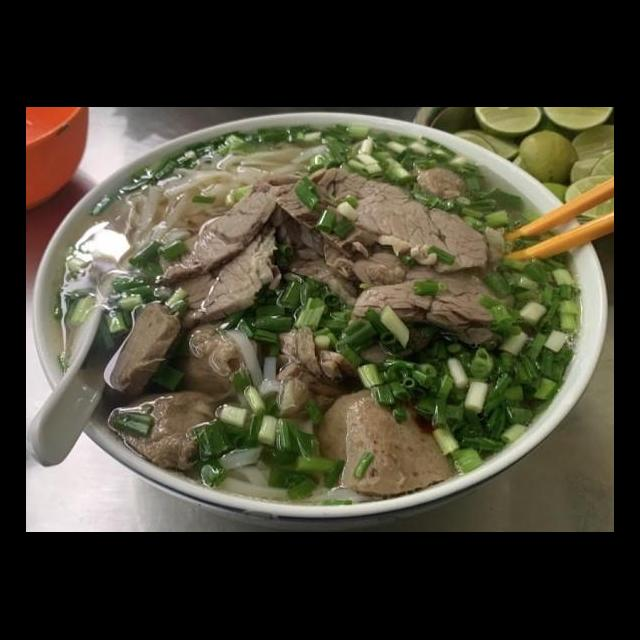banh pho: (174, 134, 335, 202), (114, 158, 225, 254), (198, 444, 289, 500)
pho bo: (33, 138, 614, 524)
thit bo: (262, 164, 494, 278), (335, 256, 514, 361), (164, 212, 286, 334), (154, 176, 282, 286), (105, 386, 223, 474), (274, 322, 360, 418), (179, 318, 260, 400)
